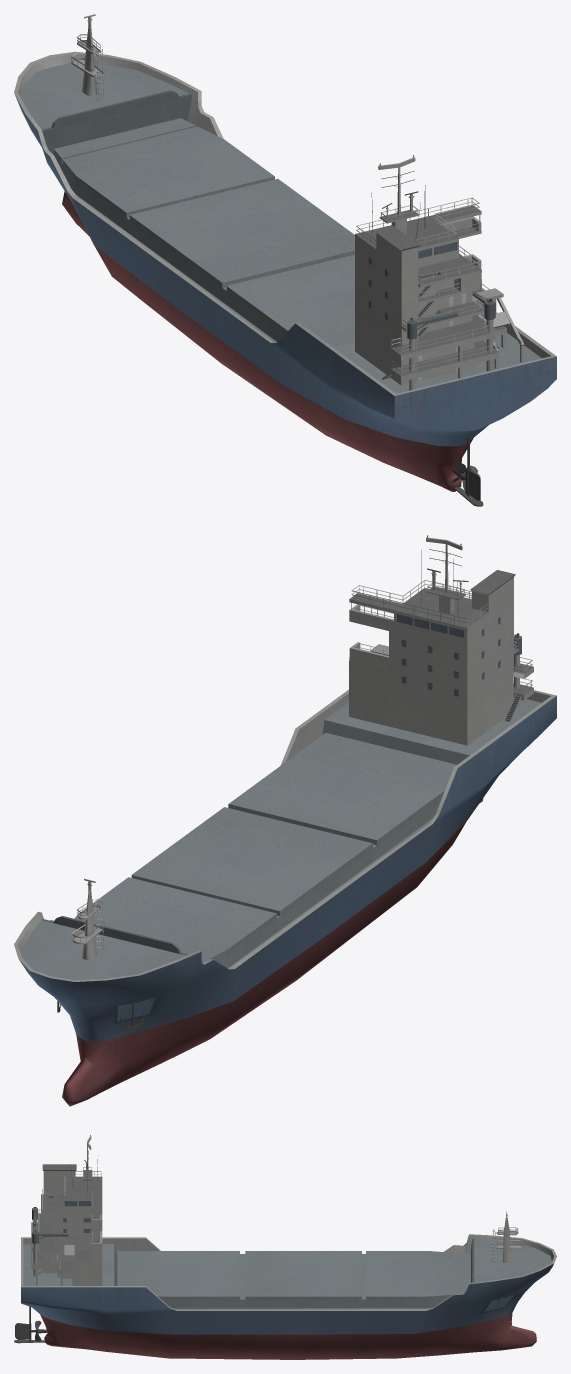
Rendered from Cargo_Ship_Empty.glb.
3 views of the same model, one above another, from view 1: azimuth 30°, elevation 25°; view 2: azimuth 150°, elevation 25°; view 3: azimuth 270°, elevation 25° (orthographic). The views are drawn at different scales.
Visible parts, largest first — view 1: Cargo_Ship_Empty__LOD3; view 2: Cargo_Ship_Empty__LOD3; view 3: Cargo_Ship_Empty__LOD3.
Boxes of the visible parts, box(x1,y1,x2,y2) form: Cargo_Ship_Empty__LOD3: box(14, 14, 556, 506); Cargo_Ship_Empty__LOD3: box(14, 535, 556, 1106); Cargo_Ship_Empty__LOD3: box(14, 1135, 556, 1359).
Bounding box in the file's own units: 65.63 × 126 × 300.
Materials: 1 (1 with a texture image).
